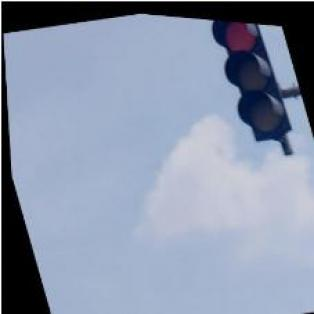Semaforo Rojo: (209, 15, 293, 143)
